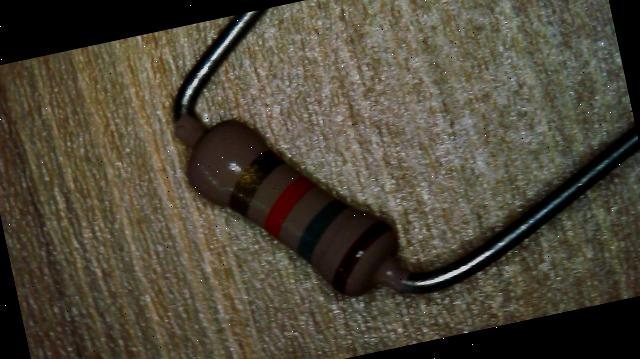brown: (322, 217, 402, 295)
gold: (222, 147, 296, 216)
grey: (288, 196, 358, 264)
orange: (257, 174, 323, 238)
resistor: (149, 77, 440, 326)
